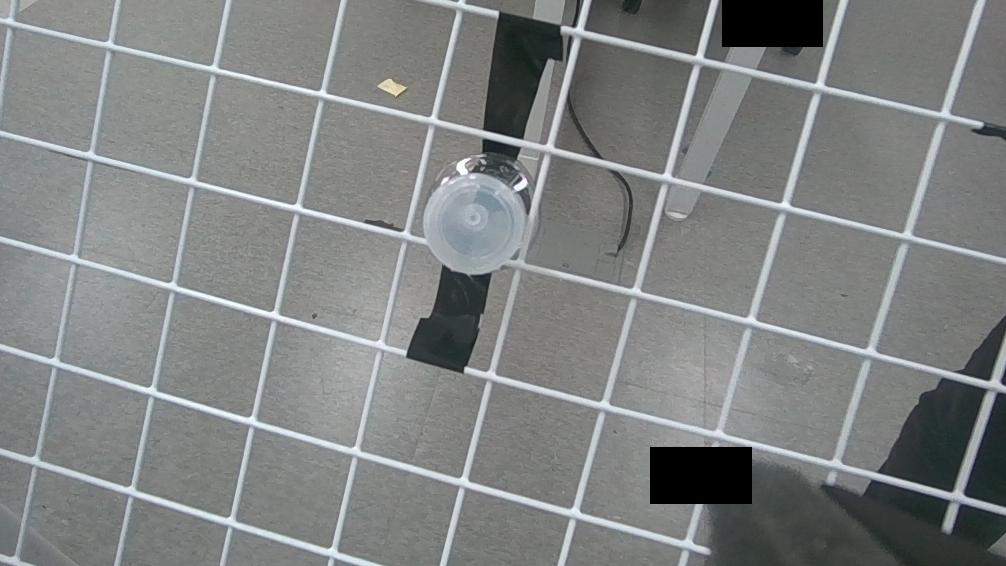Cap: (423, 172, 525, 275)
